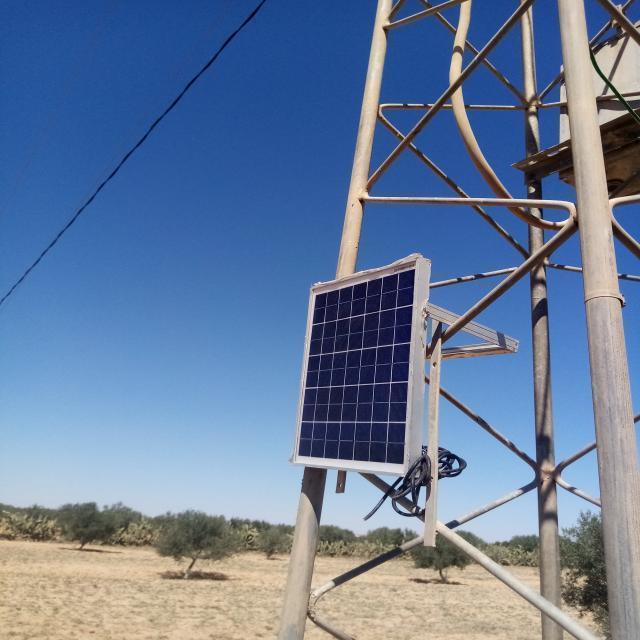Normal Solar Panel: (292, 258, 418, 475)
